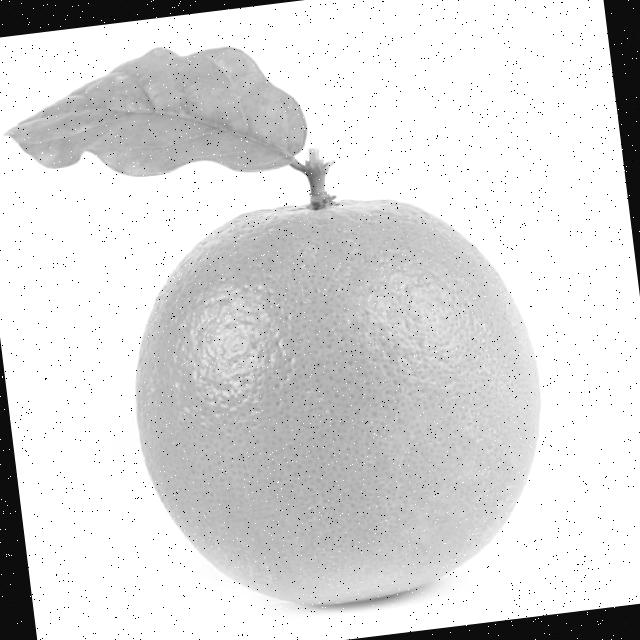Ripe: (107, 170, 562, 630)
